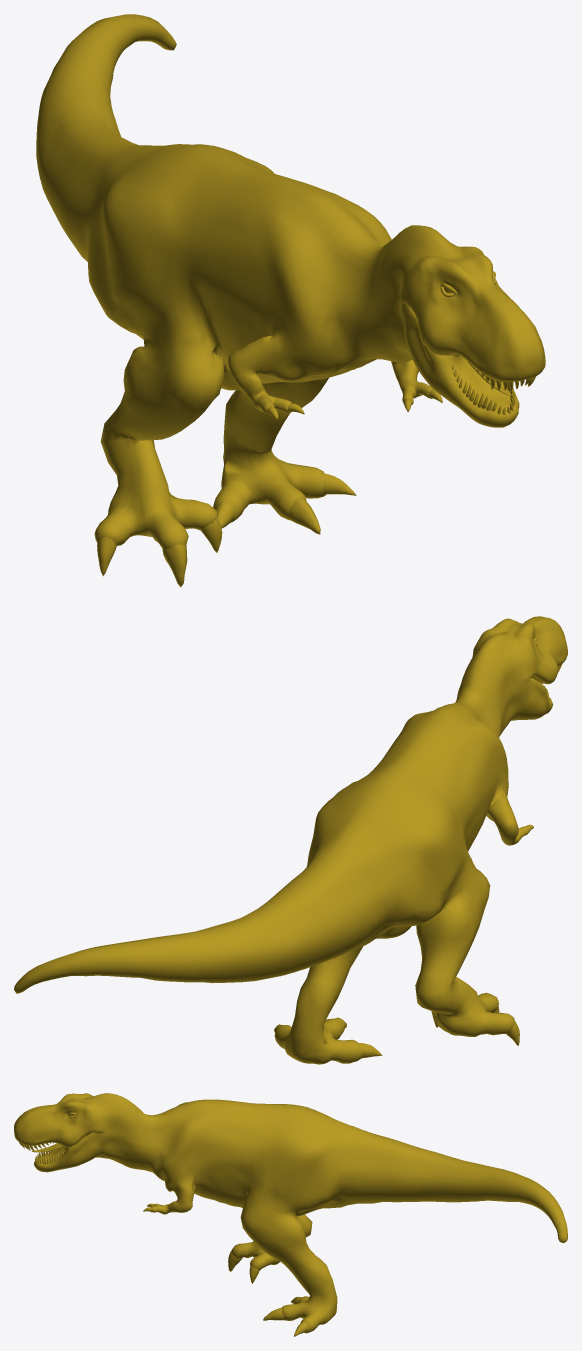
File: T_Rex.obj
The picture shows the model from 3 angles, top to bottom: view 1: azimuth 30°, elevation 25°; view 2: azimuth 150°, elevation 25°; view 3: azimuth 270°, elevation 25°; orthographic projection. The views are drawn at different scales.
Parts seen in each view (by area): view 1: RexBody; view 2: RexBody; view 3: RexBody.
Part boxes in pixels (x1=…): RexBody: x1=36, y1=14, x2=545, y2=587; RexBody: x1=14, y1=616, x2=567, y2=1064; RexBody: x1=14, y1=1093, x2=567, y2=1336.
Bounding box in the file's own units: 200 × 218 × 501.
